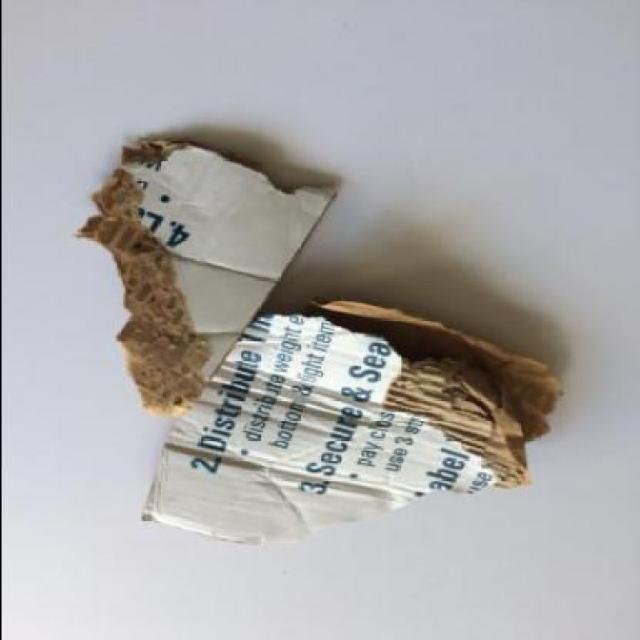CARDBOARD: (135, 300, 562, 543), (73, 143, 332, 420)
